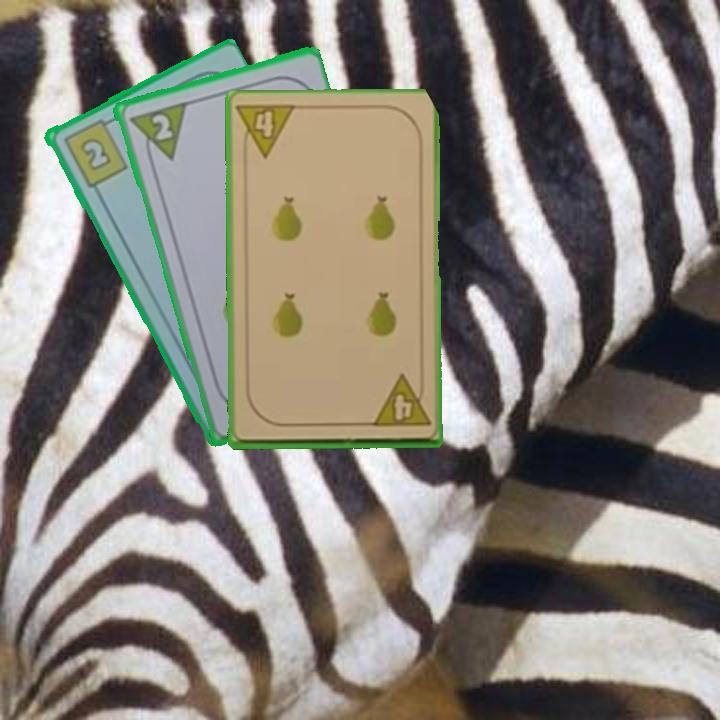2b: (59, 114, 130, 190)
2p: (124, 98, 189, 169)
4p: (233, 102, 298, 163), (368, 373, 433, 430)
